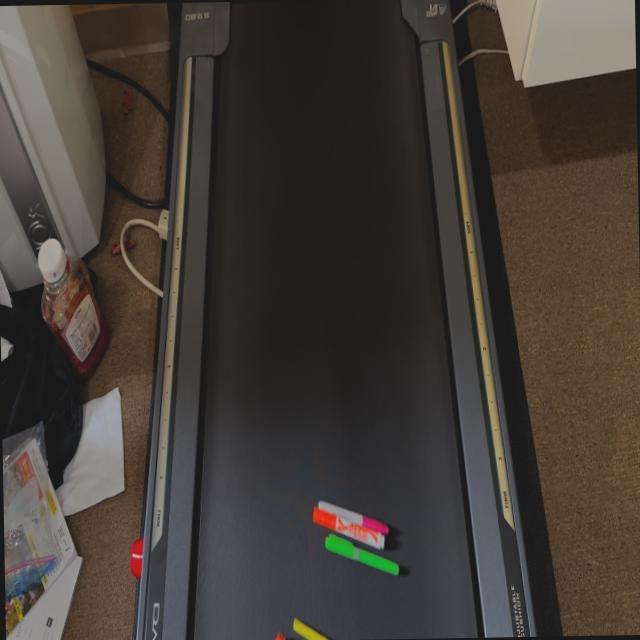Trash: (312, 503, 386, 555), (322, 531, 399, 579), (316, 496, 389, 538), (291, 613, 335, 640), (269, 626, 290, 640)
